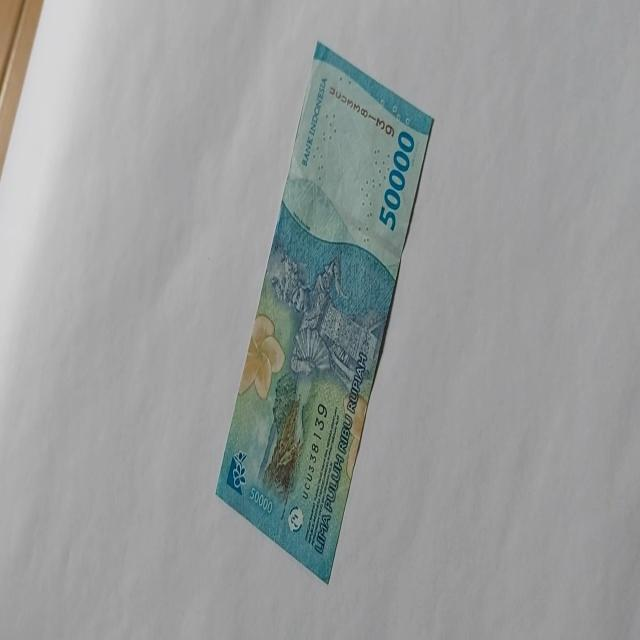lima puluh ribu rupiah: (213, 39, 434, 585)
